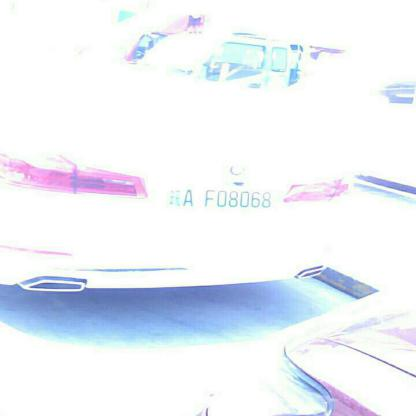lp: (166, 186, 275, 206)
